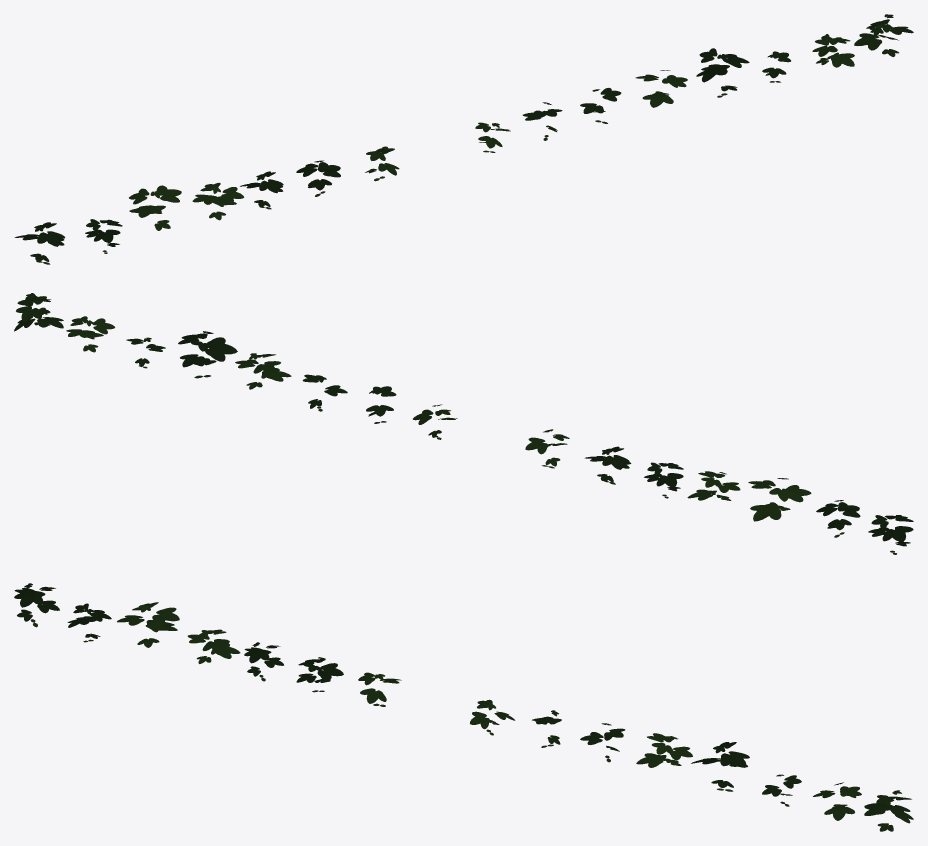
Rendered from ROW_10_SEG4_foliage.dae.
The picture shows the model from 3 angles, top to bottom: view 1: azimuth 30°, elevation 25°; view 2: azimuth 150°, elevation 25°; view 3: azimuth 330°, elevation 25°; orthographic projection. The views are drawn at different scales.
Visible parts, largest first — view 1: ROW_10_SEG4_foliage; view 2: ROW_10_SEG4_foliage; view 3: ROW_10_SEG4_foliage.
Boxes of the visible parts, x1,y1,x2,y2 form: ROW_10_SEG4_foliage: (14,14,913,264); ROW_10_SEG4_foliage: (14,293,913,554); ROW_10_SEG4_foliage: (14,583,913,831).
Bounding box in the file's own units: 4.77 × 0.326 × 0.2474.
